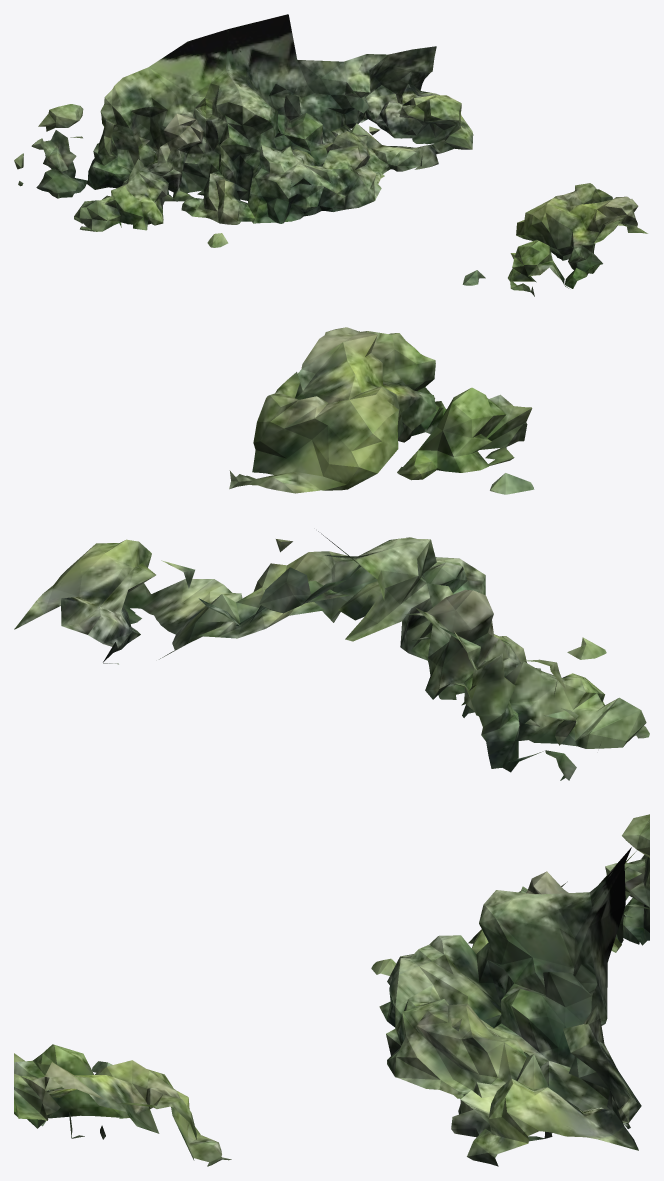
The picture shows the model from 3 angles, top to bottom: view 1: azimuth 30°, elevation 25°; view 2: azimuth 150°, elevation 25°; view 3: azimuth 270°, elevation 25°; orthographic projection. The views are drawn at different scales.
Size of the model in its own units: 104 by 30.99 by 104.
Materials: 2 (2 with a texture image).
